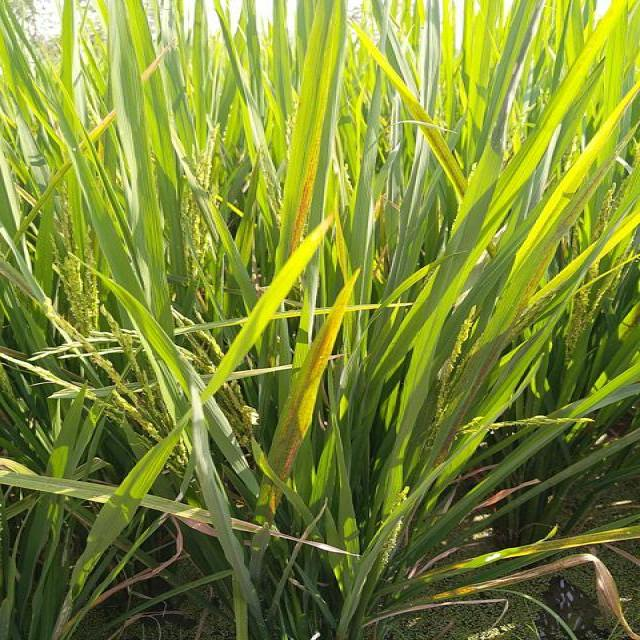Leaf Streak: (267, 268, 361, 482), (433, 330, 509, 466), (233, 517, 348, 554), (420, 126, 468, 196), (288, 142, 317, 248), (255, 476, 281, 522)
